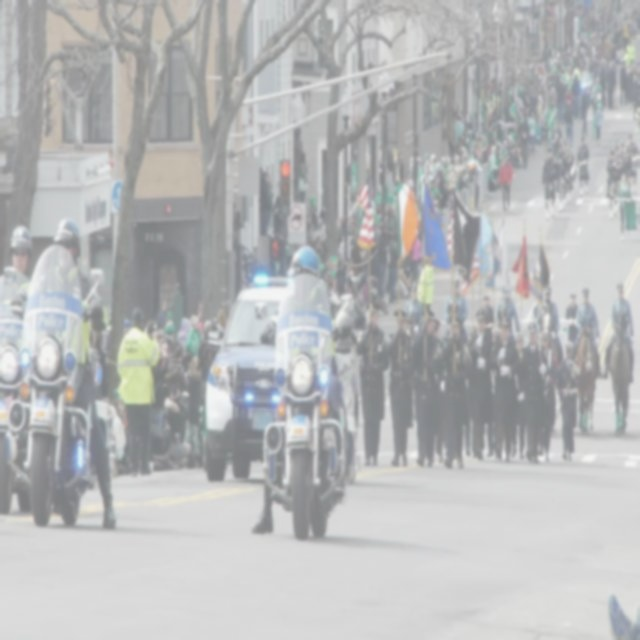pessoa: (8, 216, 117, 531), (248, 242, 352, 538), (497, 0, 639, 170), (260, 169, 368, 312), (88, 282, 228, 384), (403, 72, 498, 211), (116, 304, 160, 479), (355, 297, 390, 467), (438, 314, 474, 469), (408, 306, 442, 469), (516, 318, 552, 466), (384, 306, 416, 466), (489, 316, 521, 463), (468, 308, 494, 463), (602, 278, 636, 386), (555, 338, 582, 464), (571, 286, 604, 382), (538, 328, 559, 464), (462, 321, 481, 459), (162, 383, 192, 468), (510, 330, 528, 460), (194, 382, 216, 486), (368, 265, 416, 308), (606, 589, 640, 640), (7, 222, 34, 282), (496, 282, 522, 340), (534, 282, 560, 338), (540, 145, 557, 220), (443, 276, 468, 327), (442, 302, 469, 346), (604, 148, 620, 220), (616, 172, 632, 243), (555, 140, 570, 212), (372, 197, 399, 236), (376, 221, 388, 308), (574, 134, 590, 198), (498, 153, 514, 216), (386, 228, 399, 303), (562, 136, 575, 207), (425, 316, 443, 362), (564, 290, 579, 342), (626, 132, 638, 196), (411, 226, 423, 282), (612, 144, 624, 198), (480, 294, 494, 336), (392, 150, 404, 188), (620, 142, 626, 154)
